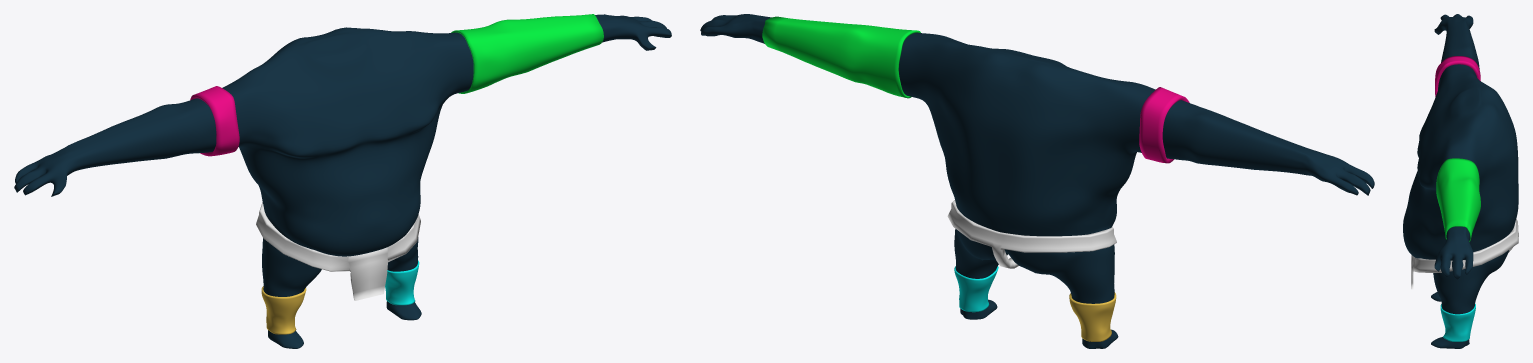
The model's file is melee.fbx.
3 views of the same model, side by side, from view 1: azimuth 30°, elevation 25°; view 2: azimuth 150°, elevation 25°; view 3: azimuth 270°, elevation 25° (orthographic). The views are drawn at different scales.
Visible parts, largest first — view 1: Body_high.004, Body_high.005, Plane, Body_high.001, Body_high.002, Body_high.003; view 2: Body_high.004, Body_high.005, Plane, Body_high.001, Body_high.002, Body_high.003; view 3: Body_high.004, Body_high.005, Plane, Body_high.003, Body_high.001.
Boxes of the visible parts, x1=… form: Body_high.004: x1=14, y1=14, x2=671, y2=348; Body_high.005: x1=451, y1=14, x2=603, y2=93; Plane: x1=256, y1=202, x2=420, y2=300; Body_high.001: x1=190, y1=86, x2=239, y2=156; Body_high.002: x1=261, y1=286, x2=306, y2=334; Body_high.003: x1=385, y1=260, x2=419, y2=305; Body_high.004: x1=700, y1=14, x2=1374, y2=348; Body_high.005: x1=762, y1=16, x2=920, y2=98; Plane: x1=947, y1=200, x2=1116, y2=268; Body_high.001: x1=1139, y1=87, x2=1189, y2=163; Body_high.002: x1=1069, y1=292, x2=1116, y2=341; Body_high.003: x1=954, y1=266, x2=998, y2=312; Body_high.004: x1=1403, y1=14, x2=1518, y2=348; Body_high.005: x1=1436, y1=158, x2=1480, y2=241; Plane: x1=1411, y1=219, x2=1518, y2=289; Body_high.003: x1=1440, y1=304, x2=1475, y2=341; Body_high.001: x1=1435, y1=56, x2=1480, y2=96.
Bounding box in the file's own units: 1274 × 517 × 242.
